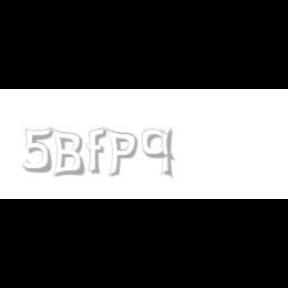5: (22, 128, 54, 174)
B: (51, 128, 85, 178)
I: (161, 128, 174, 180)
P: (106, 128, 138, 178)
a: (142, 128, 180, 160)
f: (87, 128, 111, 174)
